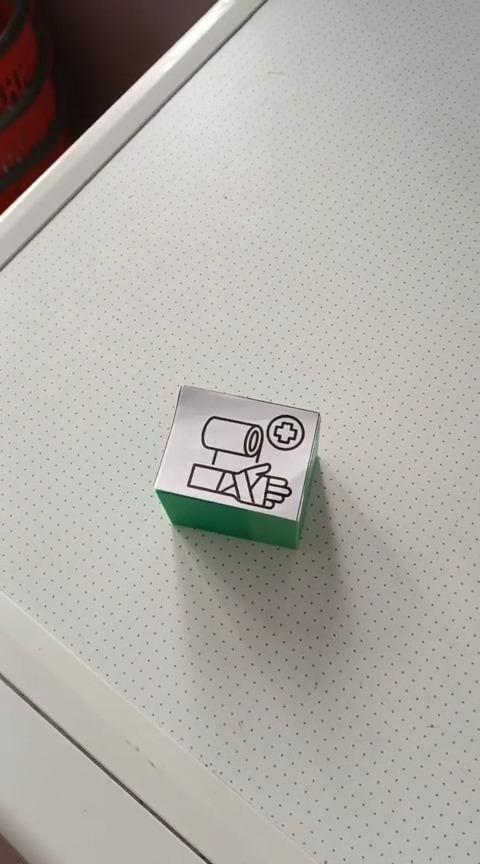Bandages: (152, 383, 321, 550)
